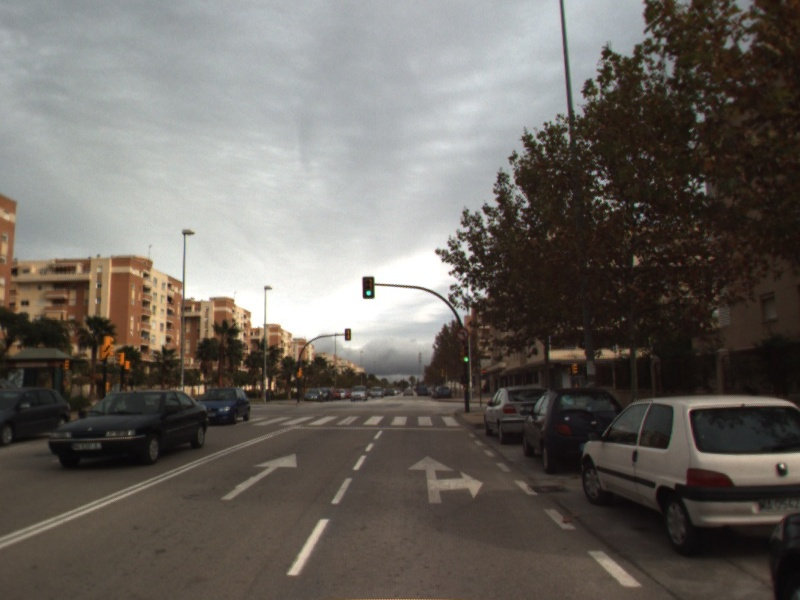STRAIGHT: (219, 451, 299, 502)
STRAIGHT_RIGHT: (407, 453, 485, 505)
